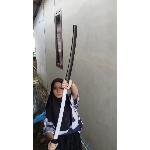Pedang: (45, 76, 75, 148)
